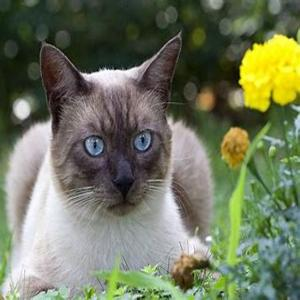cat: (47, 74, 172, 211)
